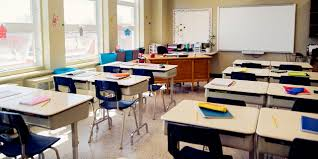desk: (0, 87, 95, 158), (159, 98, 260, 158), (87, 71, 151, 138), (257, 106, 317, 158), (202, 76, 270, 106), (132, 61, 178, 105), (266, 79, 317, 111), (50, 68, 105, 92), (221, 64, 270, 80), (269, 68, 317, 83), (270, 58, 314, 70)
